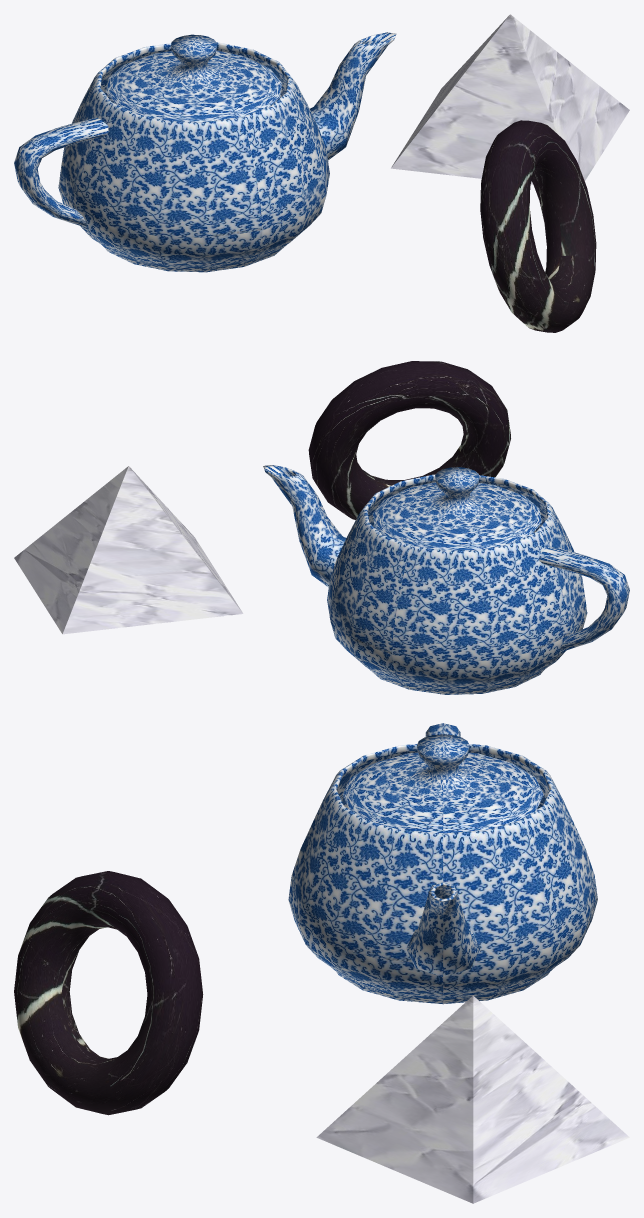
The picture shows the model from 3 angles, top to bottom: view 1: azimuth 30°, elevation 25°; view 2: azimuth 150°, elevation 25°; view 3: azimuth 270°, elevation 25°; orthographic projection. The views are drawn at different scales.
Parts seen in each view (by area): view 1: teapot_Teapot001, pPyramid1, pTorus1; view 2: teapot_Teapot001, pPyramid1, pTorus1; view 3: teapot_Teapot001, pPyramid1, pTorus1.
Boxes of the visible parts, bbox=[...] form: teapot_Teapot001: bbox=[14, 32, 396, 272]; pPyramid1: bbox=[391, 14, 629, 184]; pTorus1: bbox=[480, 120, 596, 332]; teapot_Teapot001: bbox=[263, 465, 629, 694]; pPyramid1: bbox=[14, 466, 243, 634]; pTorus1: bbox=[308, 361, 510, 519]; teapot_Teapot001: bbox=[288, 723, 597, 1004]; pPyramid1: bbox=[316, 995, 629, 1203]; pTorus1: bbox=[14, 871, 203, 1115].
Size of the model in its own units: 10.61 by 3.56 by 7.97.
